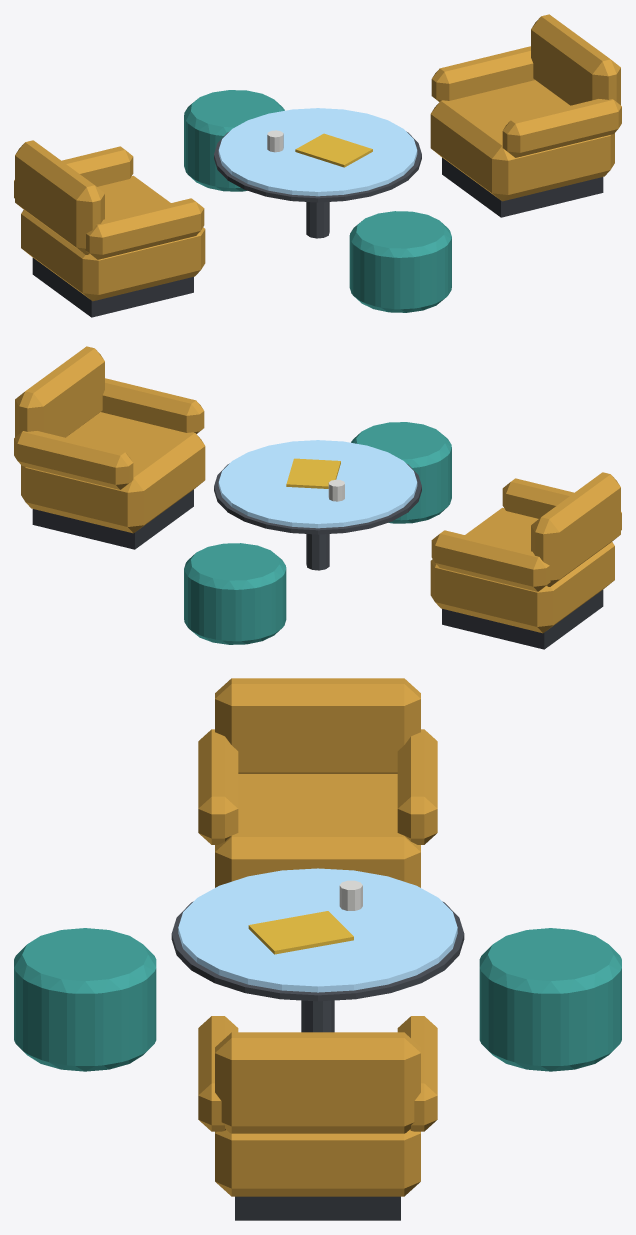
The model's file is lounge_wide.glb.
The picture shows the model from 3 angles, top to bottom: view 1: azimuth 30°, elevation 25°; view 2: azimuth 150°, elevation 25°; view 3: azimuth 270°, elevation 25°; orthographic projection. The views are drawn at different scales.
Parts seen in each view (by area): view 1: lounge_wide_mesh; view 2: lounge_wide_mesh; view 3: lounge_wide_mesh.
Boxes of the visible parts, box(x1,y1,x2,y2) form: lounge_wide_mesh: box(14, 14, 621, 317); lounge_wide_mesh: box(14, 346, 621, 649); lounge_wide_mesh: box(14, 678, 621, 1220).
Bounding box in the file's own units: 2.66 × 0.62 × 1.83.
